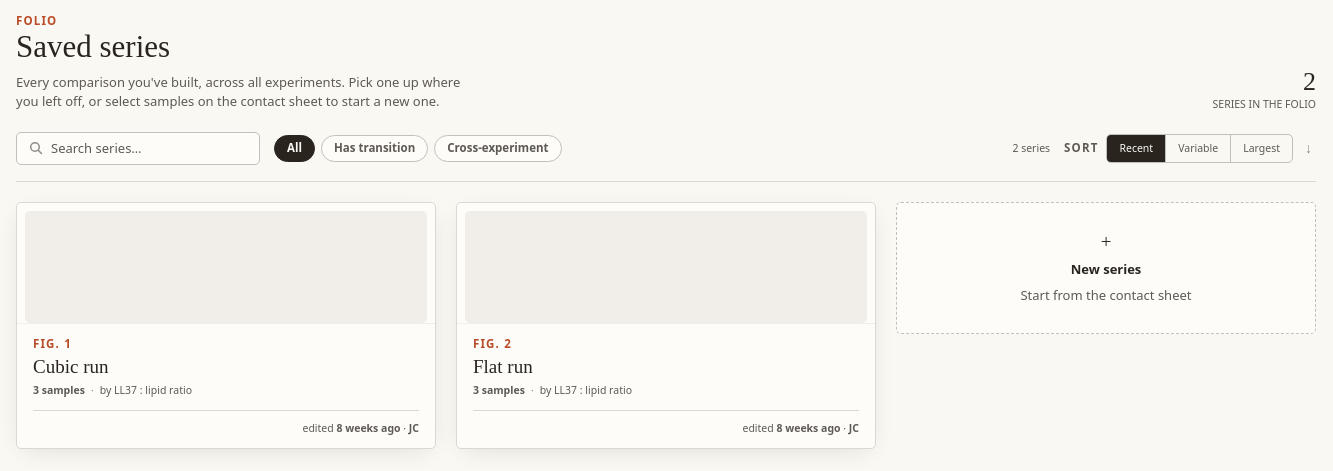
Test case: SeriesFolioPage › broadened search matches a member-phase token, not just the title (F1)
Type "Im3m" into the field at {"x": 149, "y": 148}, box [51, 139, 247, 158]
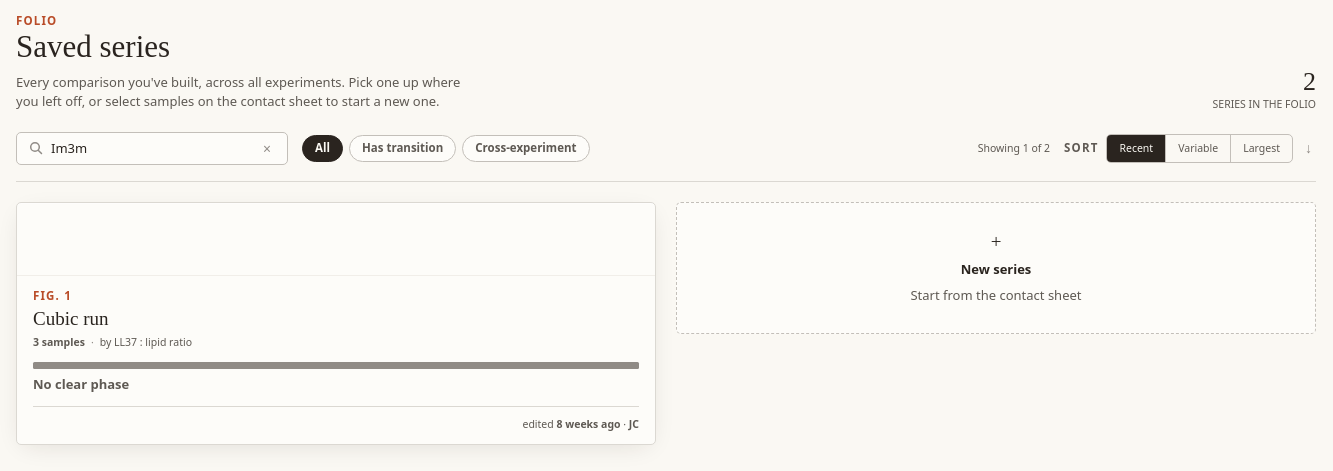
Check: the button "Cubic run" is shown, box [33, 308, 108, 331]
Check: the number of elements with test id "series-card" is 1, box [16, 202, 656, 445]
